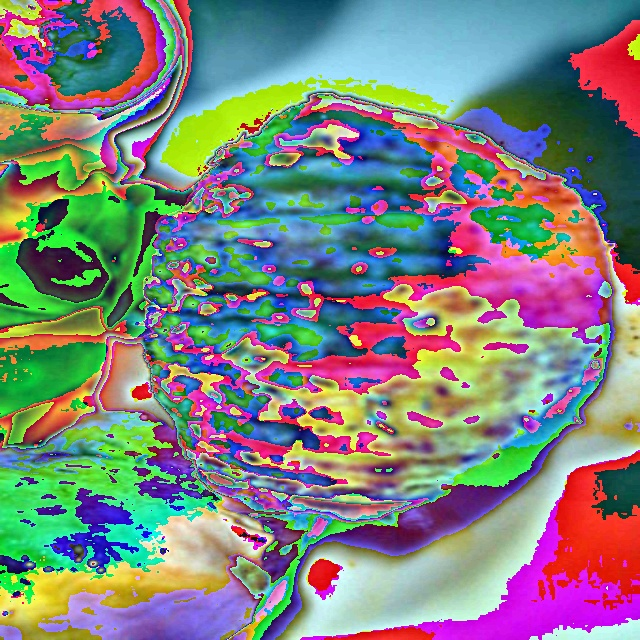background: (0, 0, 612, 640)
